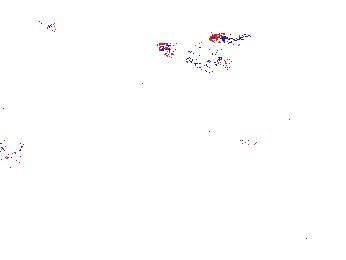X-ray fish: (309, 202, 322, 228)
red belly glassfish: (218, 137, 262, 151), (39, 13, 58, 39), (208, 31, 243, 45)
redtail glassfish: (156, 42, 230, 74), (224, 104, 306, 130), (259, 38, 321, 62), (183, 27, 260, 46), (330, 48, 346, 65)
